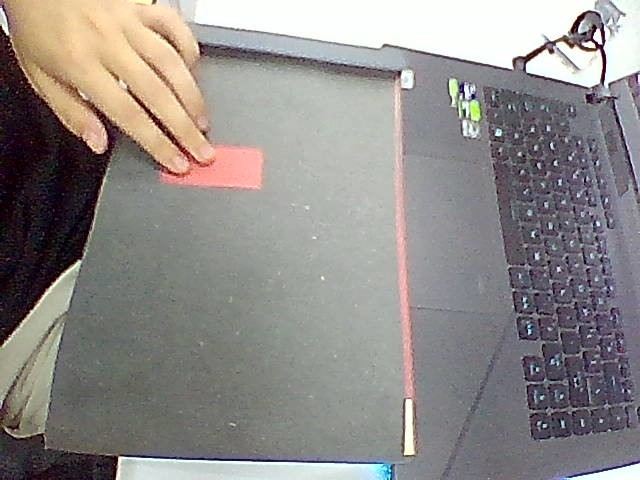card: (161, 145, 262, 189)
